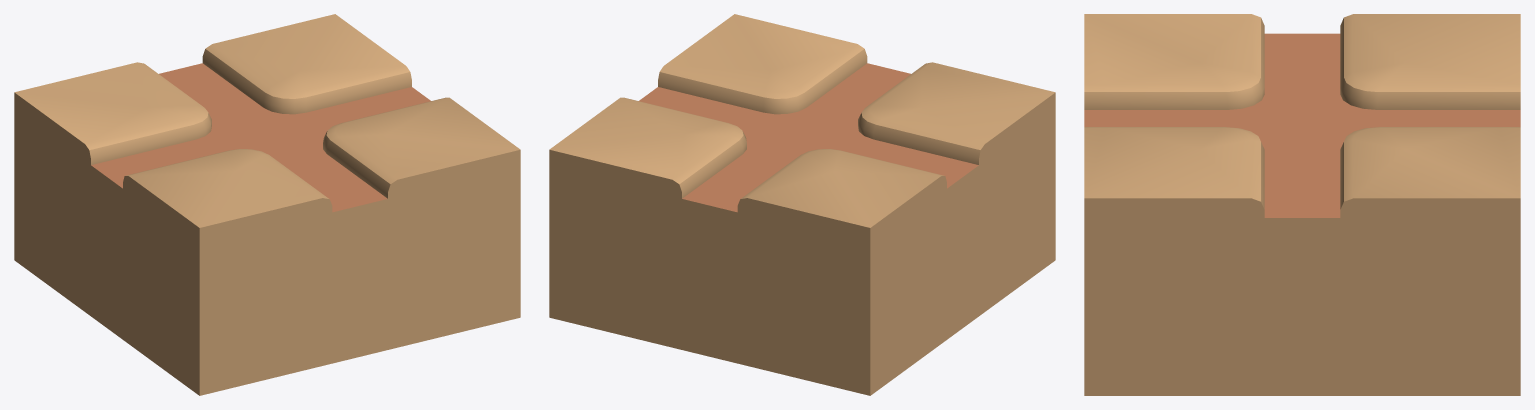
The model's file is kaykit-square-sand-roade.glb.
3 renders of one model, left to right at view 1: azimuth 30°, elevation 25°; view 2: azimuth 150°, elevation 25°; view 3: azimuth 270°, elevation 25°, orthographic. The views are drawn at different scales.
Parts seen in each view (by area): view 1: square_sand_roadE; view 2: square_sand_roadE; view 3: square_sand_roadE.
Part boxes in pixels (x1=…): square_sand_roadE: x1=14, y1=14, x2=520, y2=395; square_sand_roadE: x1=549, y1=14, x2=1055, y2=395; square_sand_roadE: x1=1084, y1=14, x2=1520, y2=395.
Size of the model in its own units: 2 by 0.9998 by 2.
